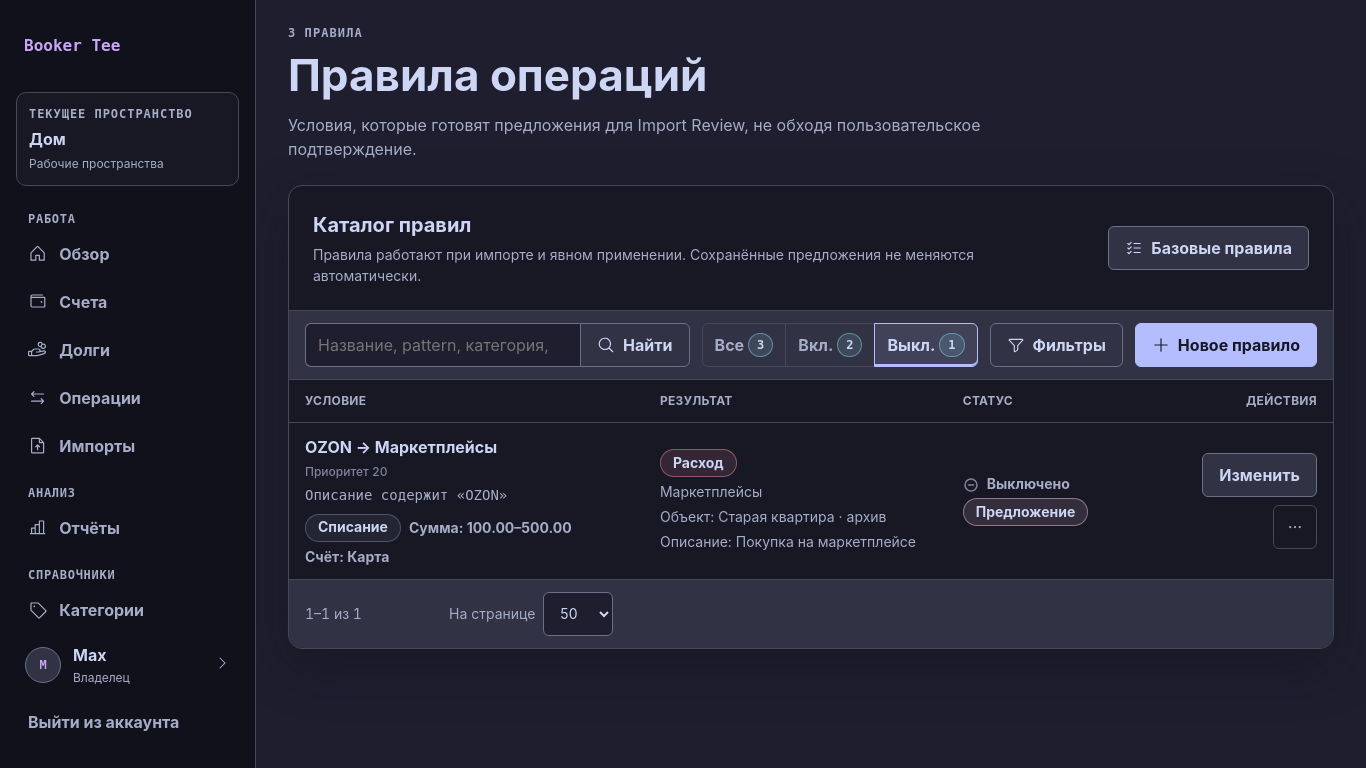
Test case: TransactionRulesPage › keeps delete in dangerous overflow, focuses cancel and removes only the rule
Check: the button "Удалить правило" is not shown
What coordinates should you click on to do the following:
click the button named "Ещё действия"
I would click on:
 (1295, 527)
Its box is [1273,505,1317,549].
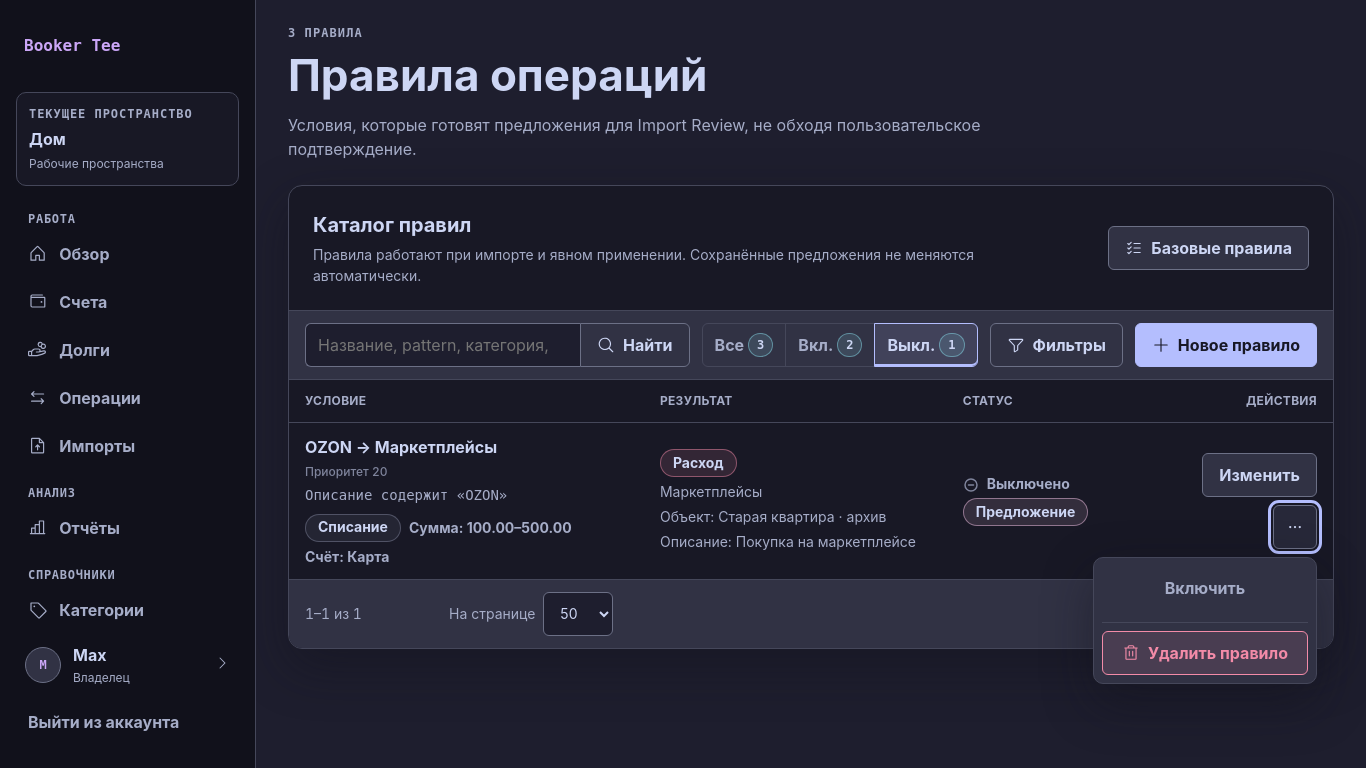
Check: the element "Удалить правило" is shown, box [1102,622,1308,675]
What coordinates should you click on to do the following:
click the button "Удалить правило"
I would click on:
 (1205, 653)
Its box is [1102,631,1308,675].
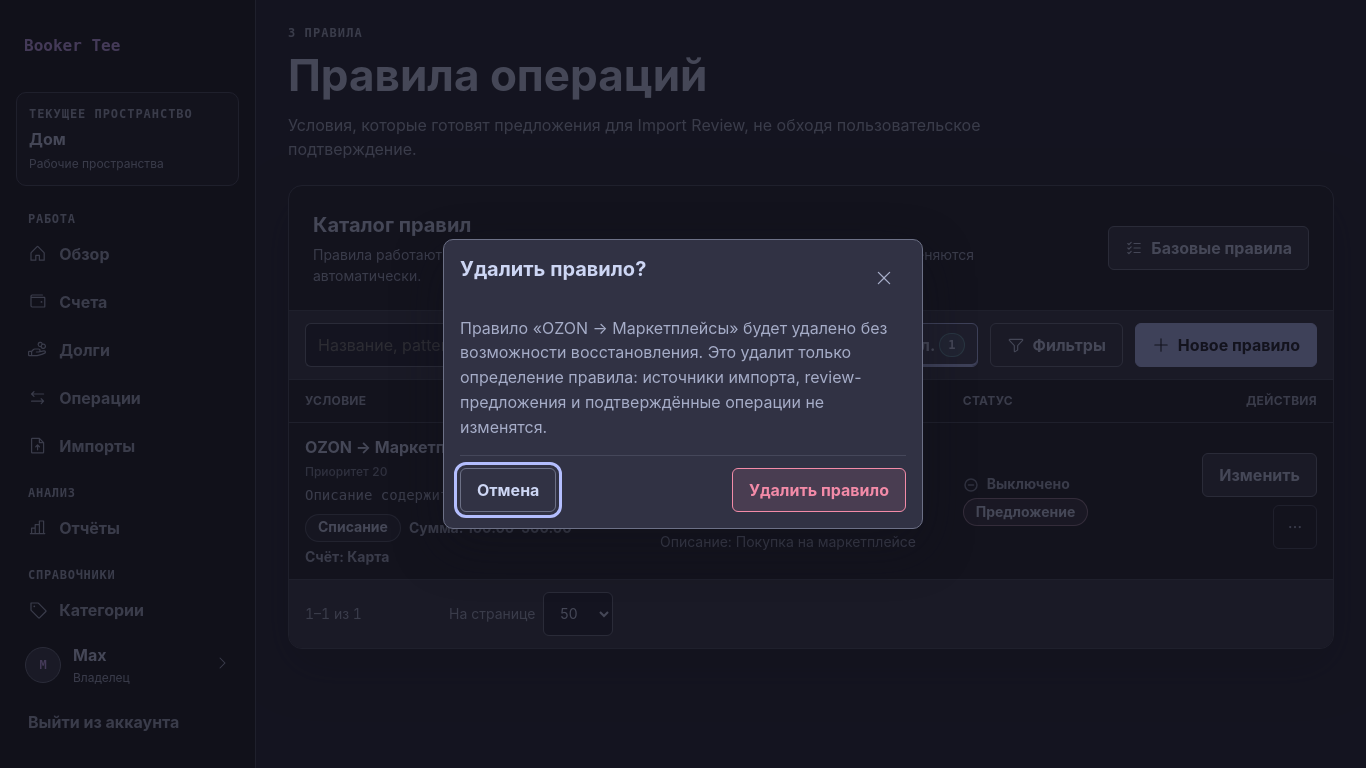
Check: the text "без возможности восстановления" is shown, box [460,318,887,437]
What coordinates should you click on to do the following:
click the button "Удалить правило"
I would click on:
 (819, 490)
Its box is [732,468,906,512].
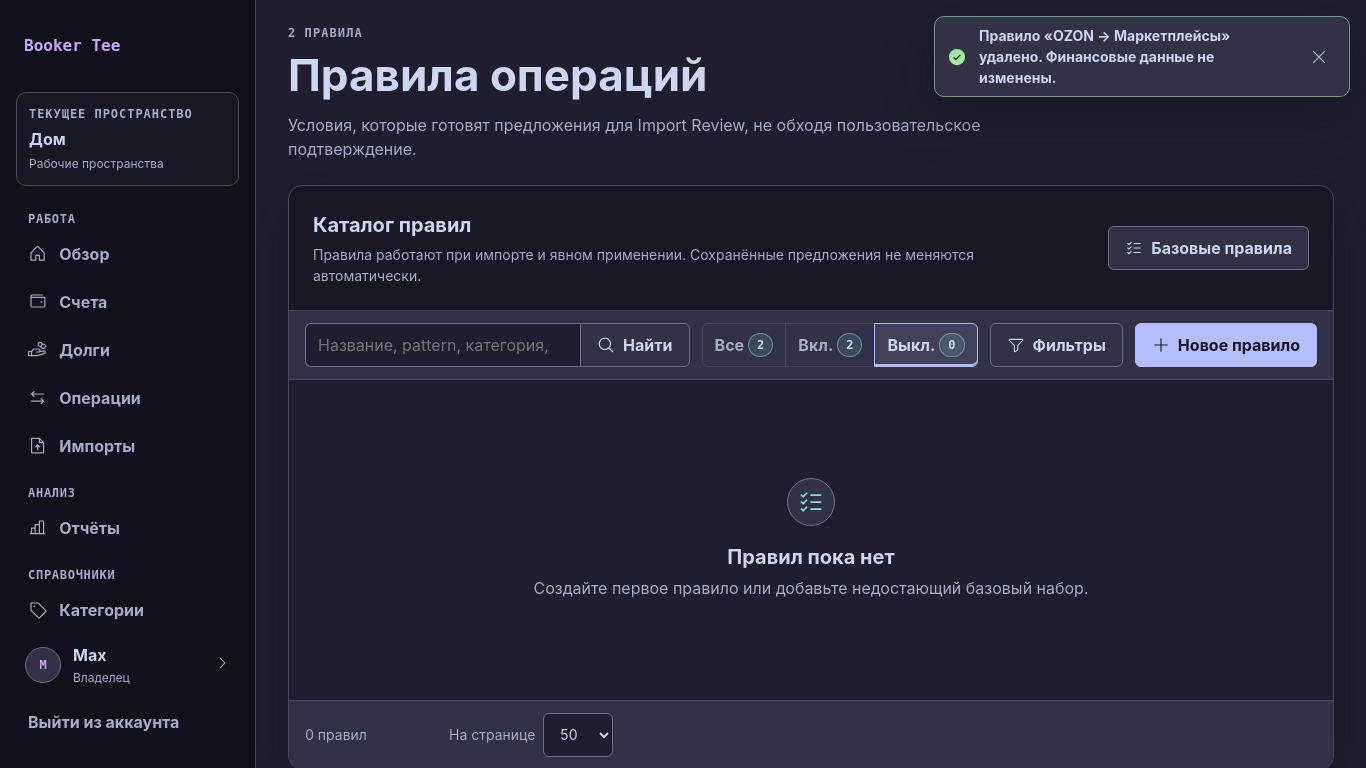
Check: the text "Финансовые данные не изменены" is shown, box [979,27,1230,86]
Check: the link with aria-label "Все правила: 2" is shown, box [702,323,786,367]
Check: the link with aria-label "Выключенные правила: 0" is shown, box [874,323,978,367]
